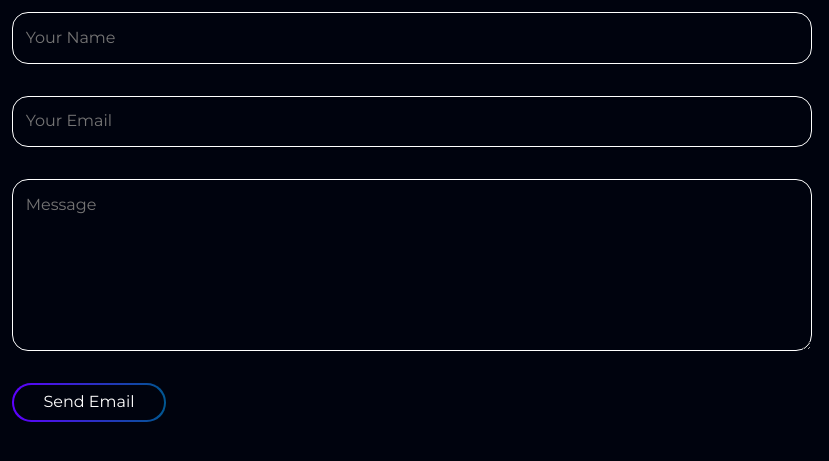
it: blocks submission when the email is malformed
The width and height of the screenshot is (829, 461).
Type "Ada" into the field with placeholder "Your Name". click: (412, 38)
box: [12,12,812,64]
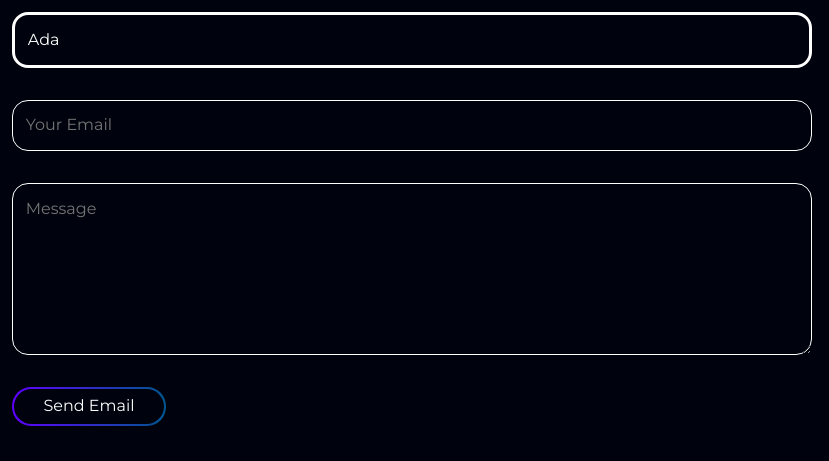
Type "ada@nowhere" into the field with placeholder "Your Email". click: (412, 125)
box: [12,100,812,151]
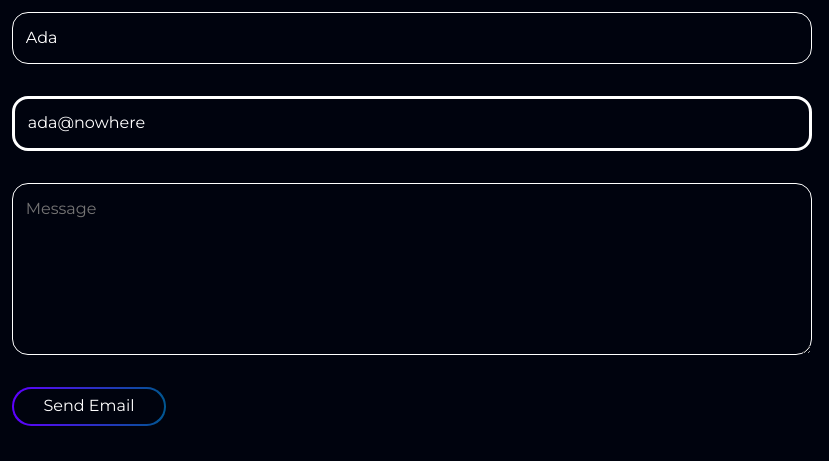
Click the button "Send Email". click: (89, 406)
box: [14,389,164,424]
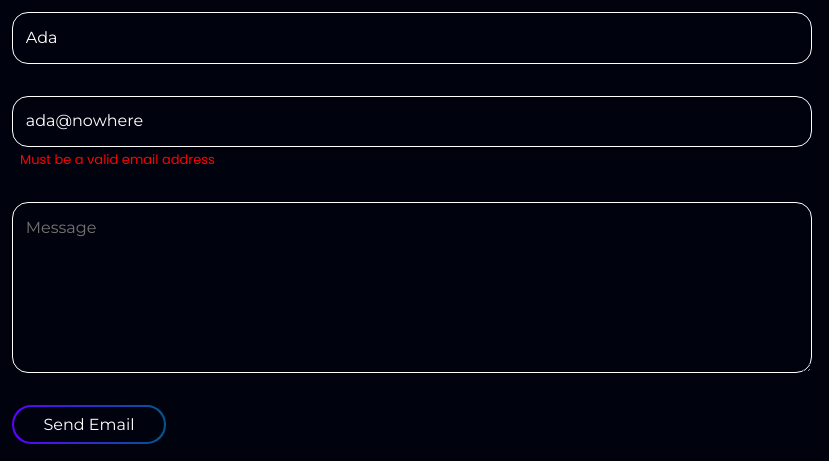
Expected: the text "Must be a valid email address" is shown, [20,150,215,169]
